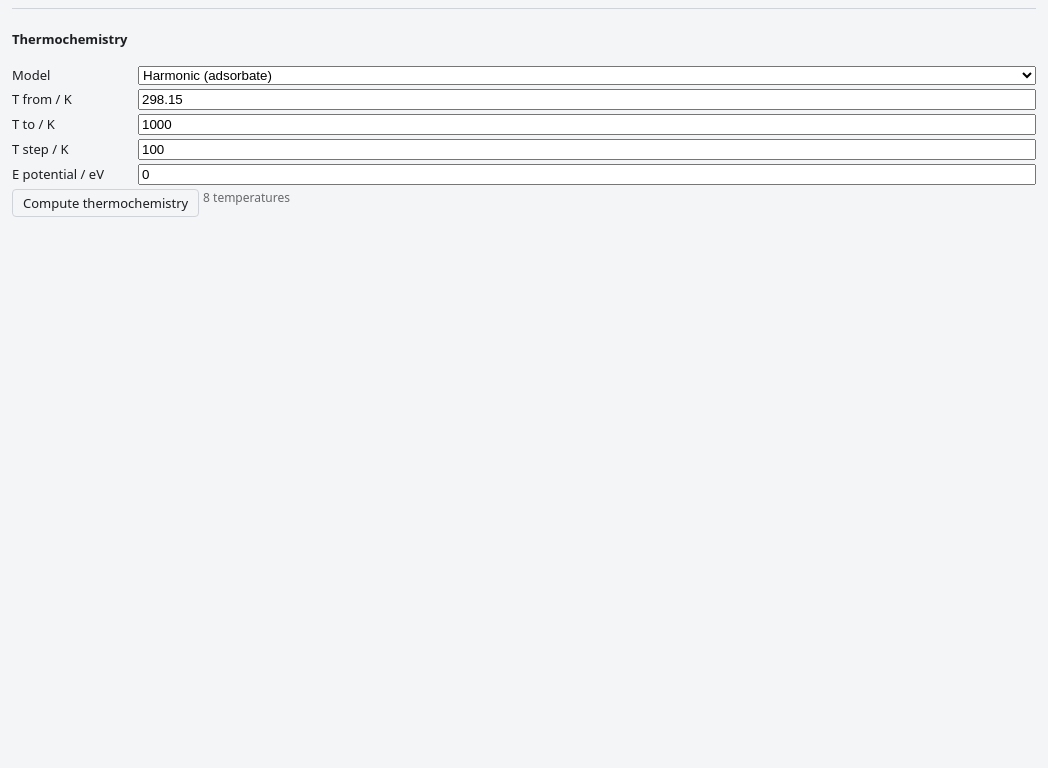
Test: the table shows U for a harmonic model and H for a gas
Click the button "Compute thermochemistry". click: coordinates (106, 203)
box: [12,189,199,217]
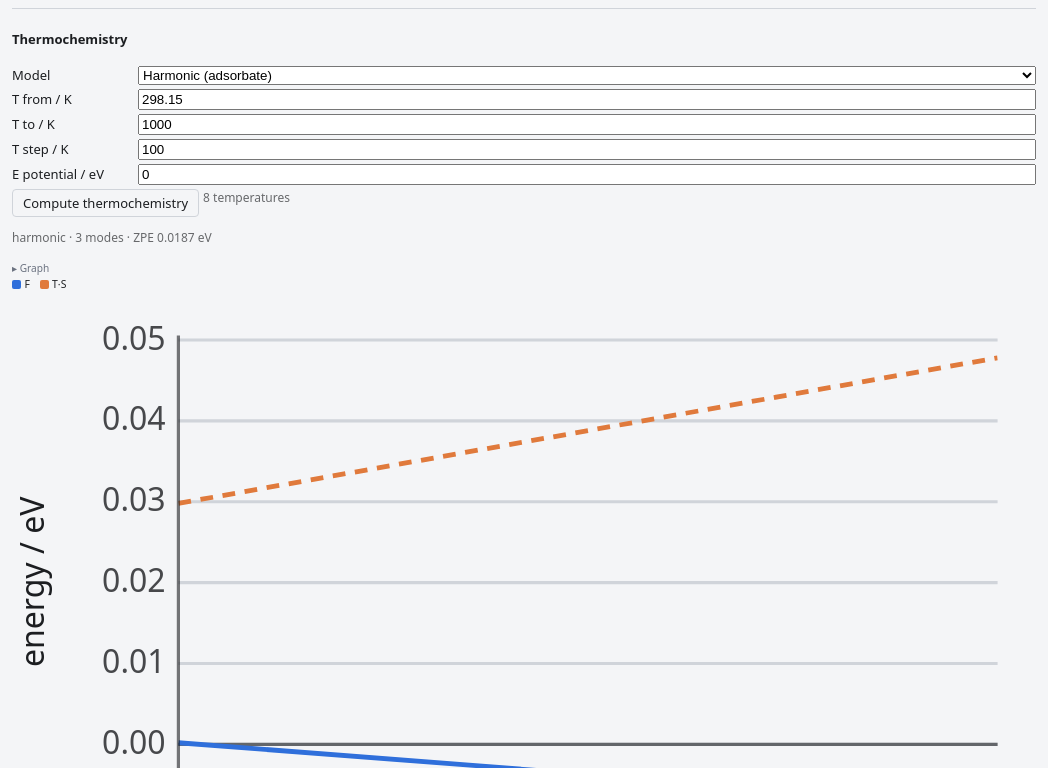
Expected: the message shows "ZPE 0.0187 eV", [12,229,212,246]
